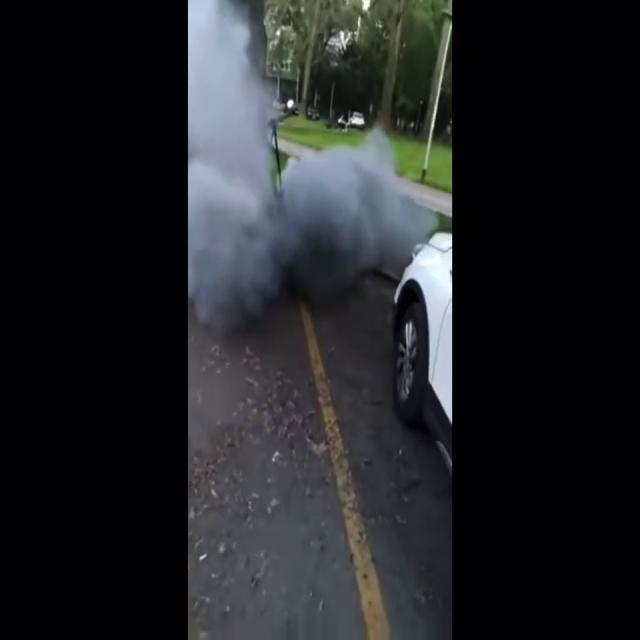Smoke: (188, 13, 416, 324), (188, 128, 416, 322)
